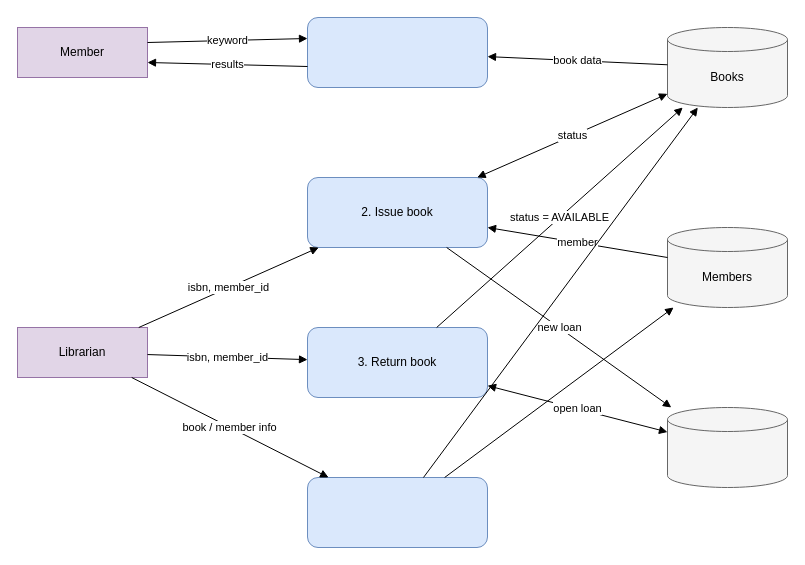
Image size: 805x565. Some labels were removed from this diagram. The shapes that lost their labels are listed below. From the top down, each one's centre as x and y in pixels, then its label:
the point at 397,52: 1. Search catalog
the point at 727,447: Loans
the point at 397,512: 4. Manage catalog & members
